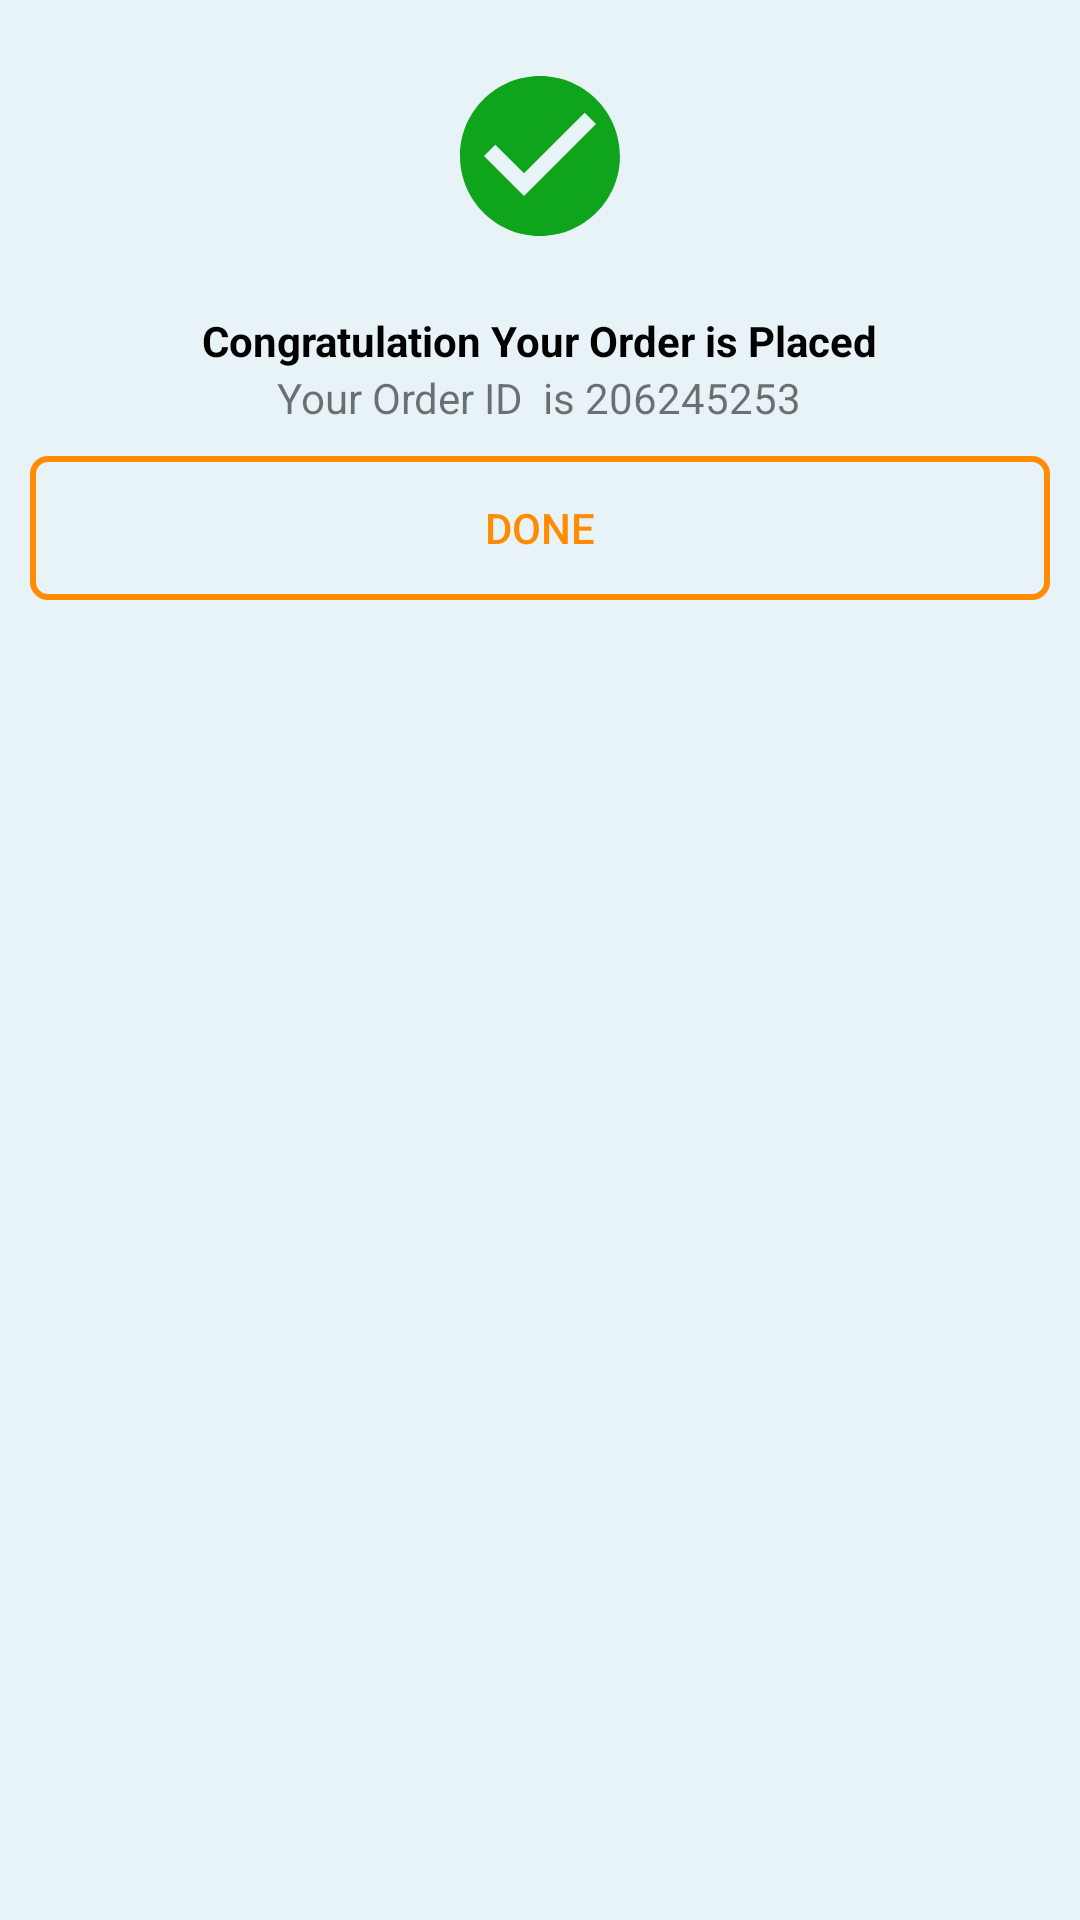

Named icons in this screenshot (1080x1920) and their bounding boxes, [x1, y1, x2, y2]:
check circlegreen: [460, 76, 620, 236]
